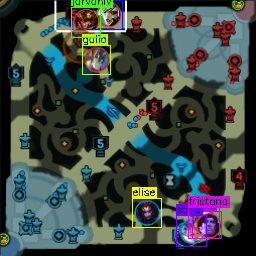elise: (134, 200, 158, 226)
galio: (83, 47, 109, 72)
jarvaniv: (73, 8, 97, 33)
riven: (96, 2, 119, 26)
sona: (179, 218, 202, 243)
taric: (196, 212, 220, 238)
tristana: (192, 209, 215, 232)
